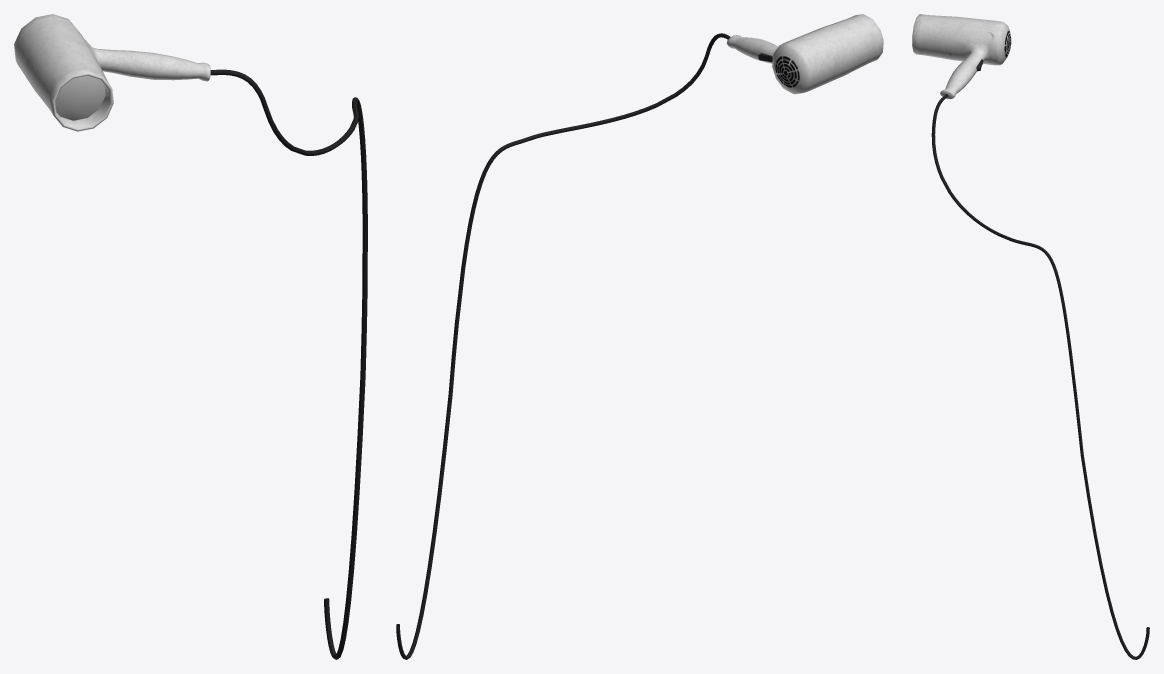
Rendered from Hair Dryer_F.FBX.
3 renders of one model, left to right at view 1: azimuth 30°, elevation 25°; view 2: azimuth 150°, elevation 25°; view 3: azimuth 270°, elevation 25°, orthographic. The views are drawn at different scales.
Visible parts, largest first — view 1: Hair Dryer_Lp; view 2: Hair Dryer_Lp; view 3: Hair Dryer_Lp.
Part boxes in pixels (x1,y1,x2,y2): Hair Dryer_Lp: (14,14,367,659); Hair Dryer_Lp: (396,14,883,659); Hair Dryer_Lp: (912,14,1149,659).
Bounding box in the file's own units: 49.26 × 84.5 × 35.35.
Materials: 1 (1 with a texture image).
